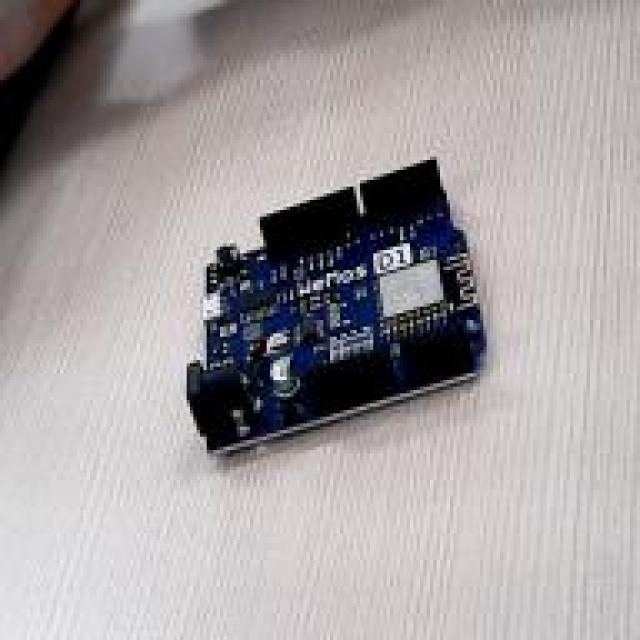Wemos: (188, 161, 484, 448)
